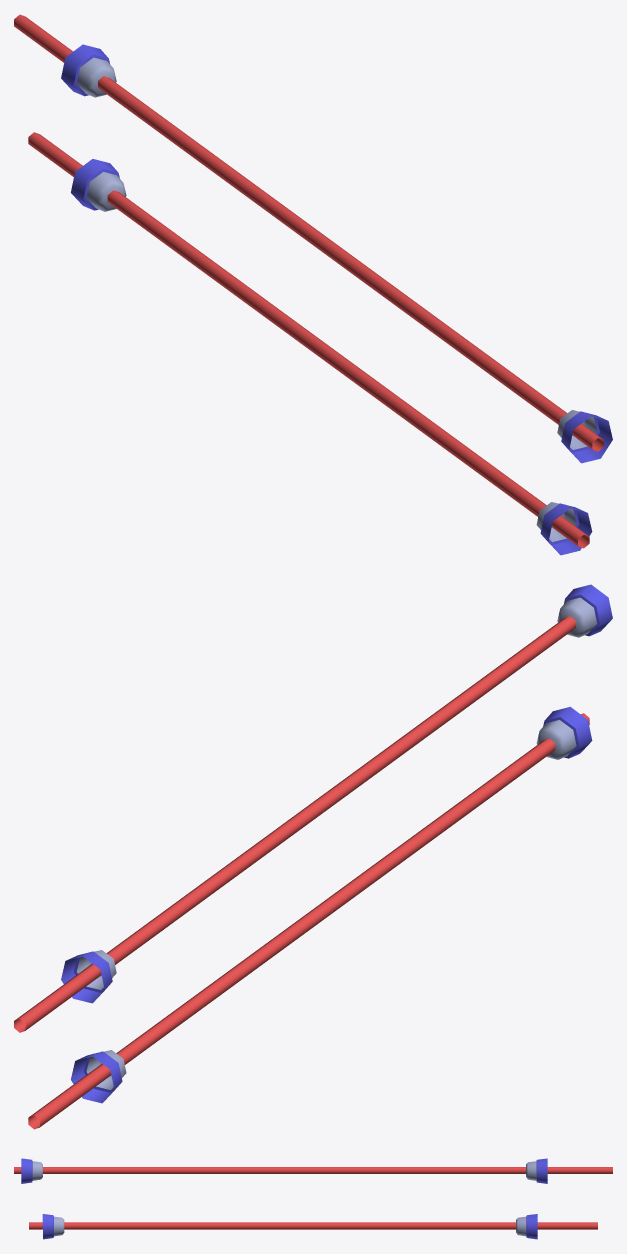
Rendered from Level21_Lasers.fbx.
The picture shows the model from 3 angles, top to bottom: view 1: azimuth 30°, elevation 25°; view 2: azimuth 150°, elevation 25°; view 3: azimuth 270°, elevation 25°; orthographic projection. The views are drawn at different scales.
Visible parts, largest first — view 1: Laser (×2), Metal2 (×2), Metal1 (×2); view 2: Laser (×2), Metal1 (×2), Metal2 (×2); view 3: Laser (×2), Metal1 (×2), Metal2 (×2).
Part boxes in pixels (x1=…): Laser (×2): x1=14, y1=14, x2=603, y2=548; Metal2 (×2): x1=61, y1=44, x2=126, y2=211; Metal1 (×2): x1=536, y1=410, x2=612, y2=555; Laser (×2): x1=14, y1=616, x2=589, y2=1129; Metal1 (×2): x1=536, y1=584, x2=612, y2=759; Metal2 (×2): x1=61, y1=950, x2=126, y2=1103; Laser (×2): x1=14, y1=1167, x2=612, y2=1229; Metal1 (×2): x1=21, y1=1158, x2=64, y2=1239; Metal2 (×2): x1=516, y1=1158, x2=547, y2=1239.
Bounding box in the file's own units: 3.74 × 12.39 × 85.55.
